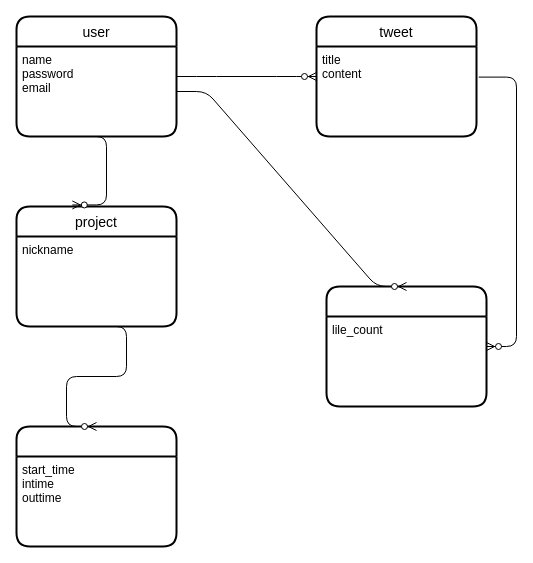
Some shapes in this 533 by 563 pixel diagram are drawn without their labels. Each missing label, with the box of its shape:
like: (325, 285, 487, 407)
task: (15, 425, 177, 547)
